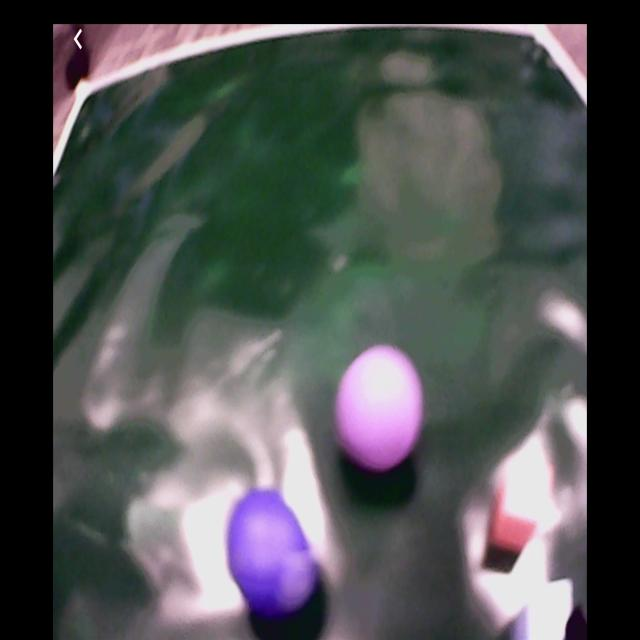ball: (228, 492, 324, 622), (334, 344, 427, 470)
